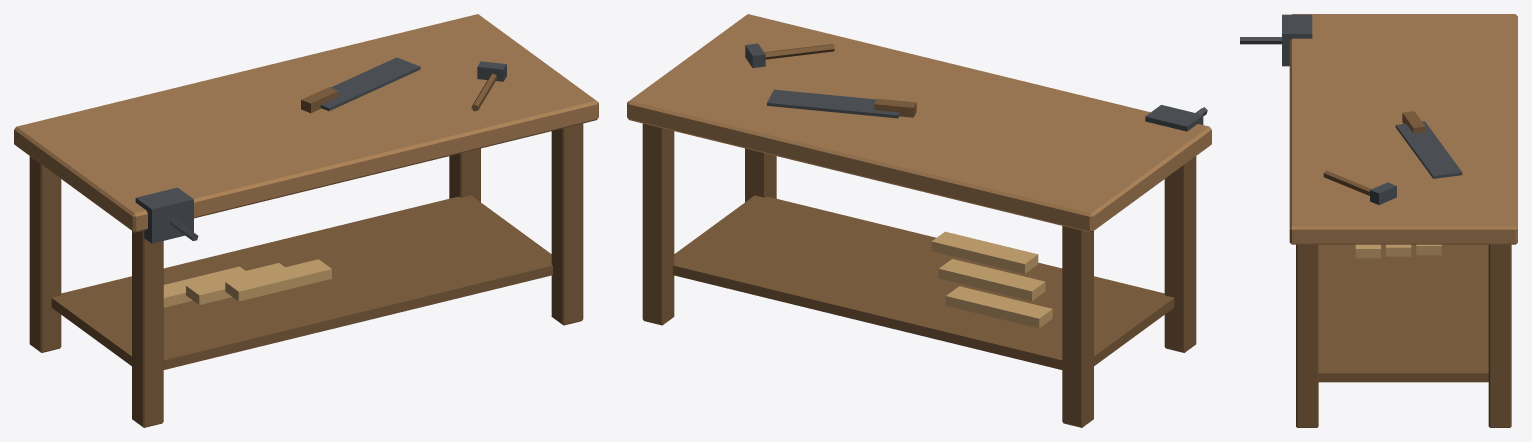
Rendered from workbench.glb.
The picture shows the model from 3 angles, left to right: view 1: azimuth 30°, elevation 25°; view 2: azimuth 150°, elevation 25°; view 3: azimuth 270°, elevation 25°; orthographic projection. The views are drawn at different scales.
Visible parts, largest first — view 1: workbench; view 2: workbench; view 3: workbench.
Part boxes in pixels (left/top/right/bottom): workbench: left=14, top=14, right=598, bottom=427; workbench: left=627, top=14, right=1211, bottom=427; workbench: left=1240, top=14, right=1517, bottom=427.
Bounding box in the file's own units: 2 × 0.955 × 1.1.
